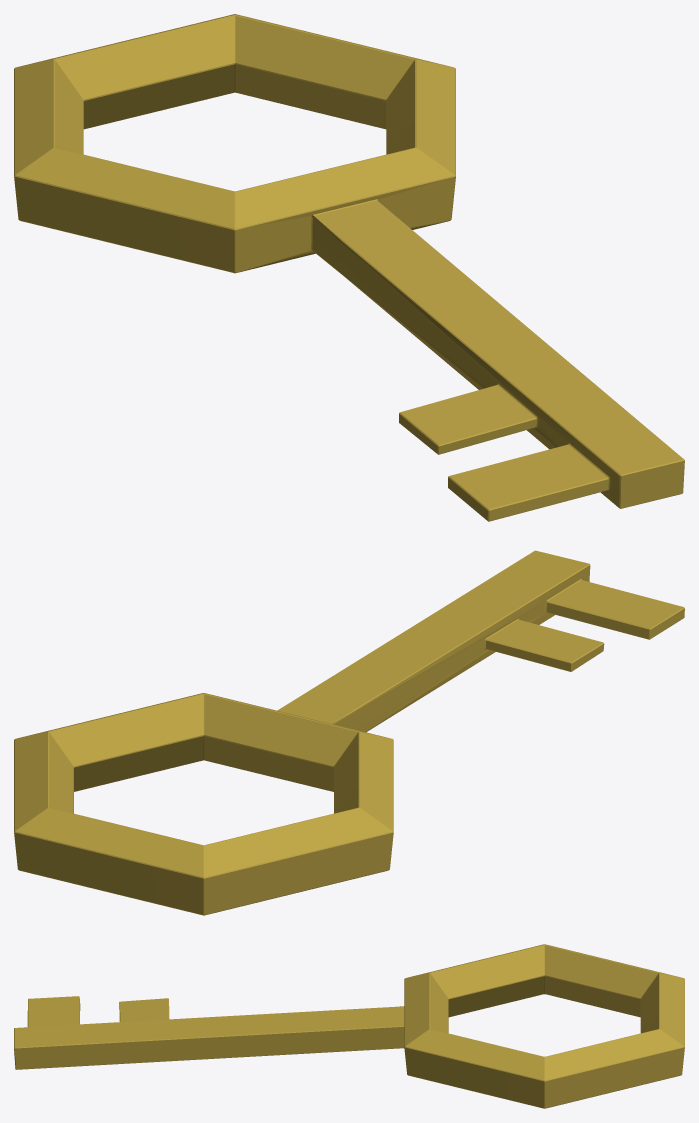
The model's file is key_2.fbx.
The picture shows the model from 3 angles, top to bottom: view 1: azimuth 30°, elevation 25°; view 2: azimuth 150°, elevation 25°; view 3: azimuth 270°, elevation 25°; orthographic projection. The views are drawn at different scales.
Parts seen in each view (by area): view 1: pTorus1; view 2: pTorus1; view 3: pTorus1.
Boxes of the visible parts, bbox=[...] form: pTorus1: bbox=[14, 14, 684, 521]; pTorus1: bbox=[14, 550, 684, 915]; pTorus1: bbox=[14, 944, 684, 1108].
Size of the model in its own units: 44.49 by 9 by 92.26.
